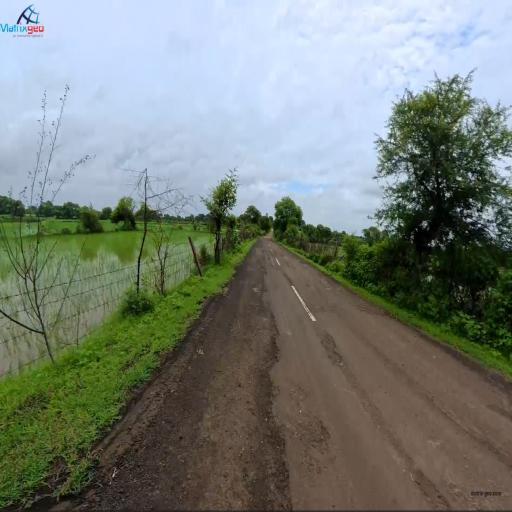ravelling: (252, 302, 318, 496)
